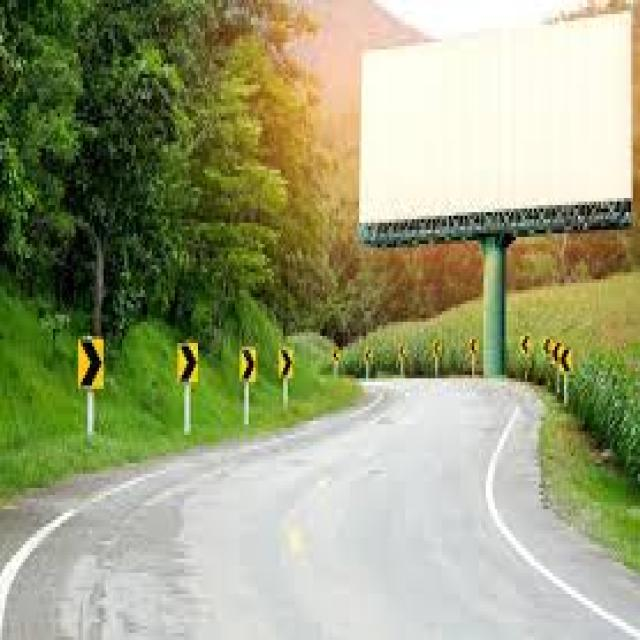Billboard_RHS: (352, 0, 640, 248)
Roadcorner: (0, 375, 411, 603), (452, 369, 638, 636)
